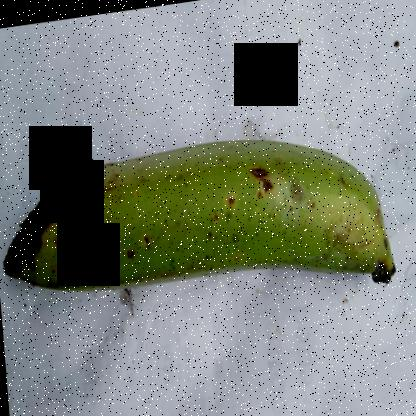rotten: (0, 160, 104, 288)
unripe: (0, 122, 398, 325)
